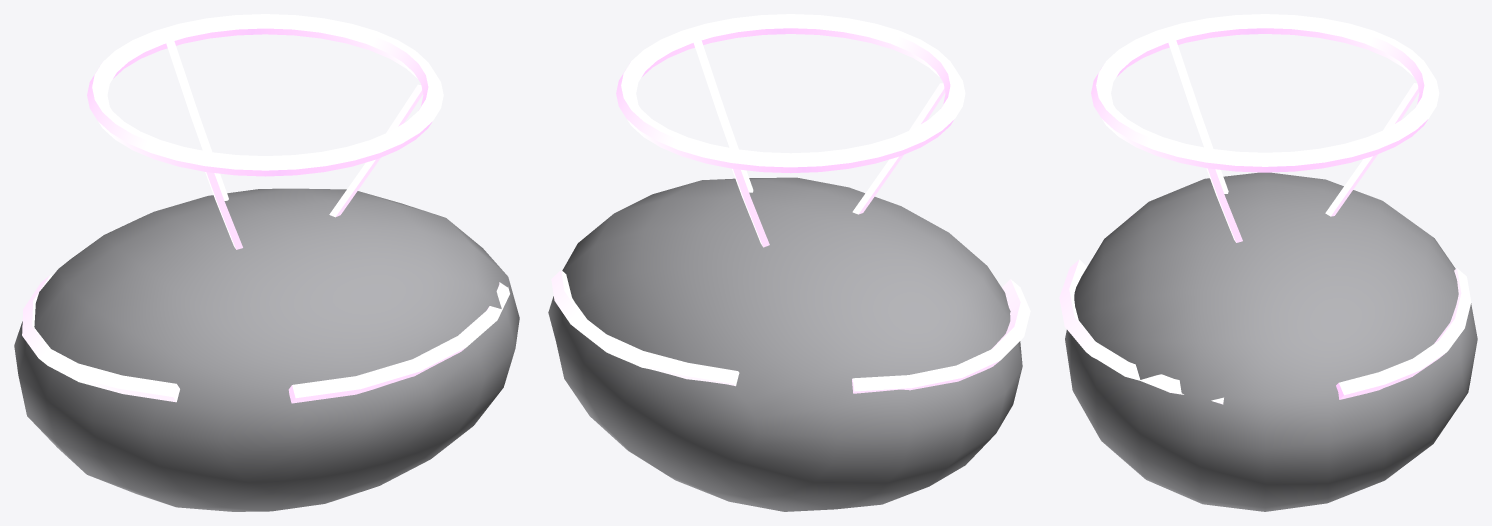
Rendered from art_featherstone.glb.
The picture shows the model from 3 angles, left to right: view 1: azimuth 30°, elevation 25°; view 2: azimuth 150°, elevation 25°; view 3: azimuth 270°, elevation 25°; orthographic projection. The views are drawn at different scales.
Visible parts, largest first — view 1: body; view 2: body; view 3: body.
Boxes of the visible parts, bbox=[...] form: body: bbox=[14, 14, 519, 511]; body: bbox=[548, 14, 1030, 511]; body: bbox=[1059, 14, 1477, 511].
Bounding box in the file's own units: 0.0356 × 0.0302 × 0.0293.
